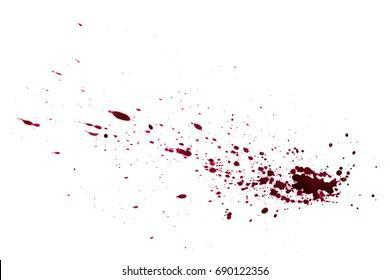Fire: (7, 84, 376, 231)
